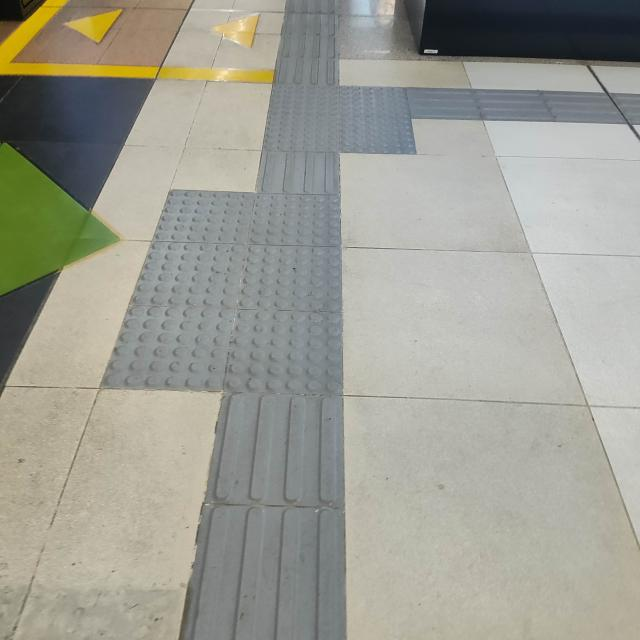lurus: (223, 404, 379, 640), (256, 0, 334, 244)
